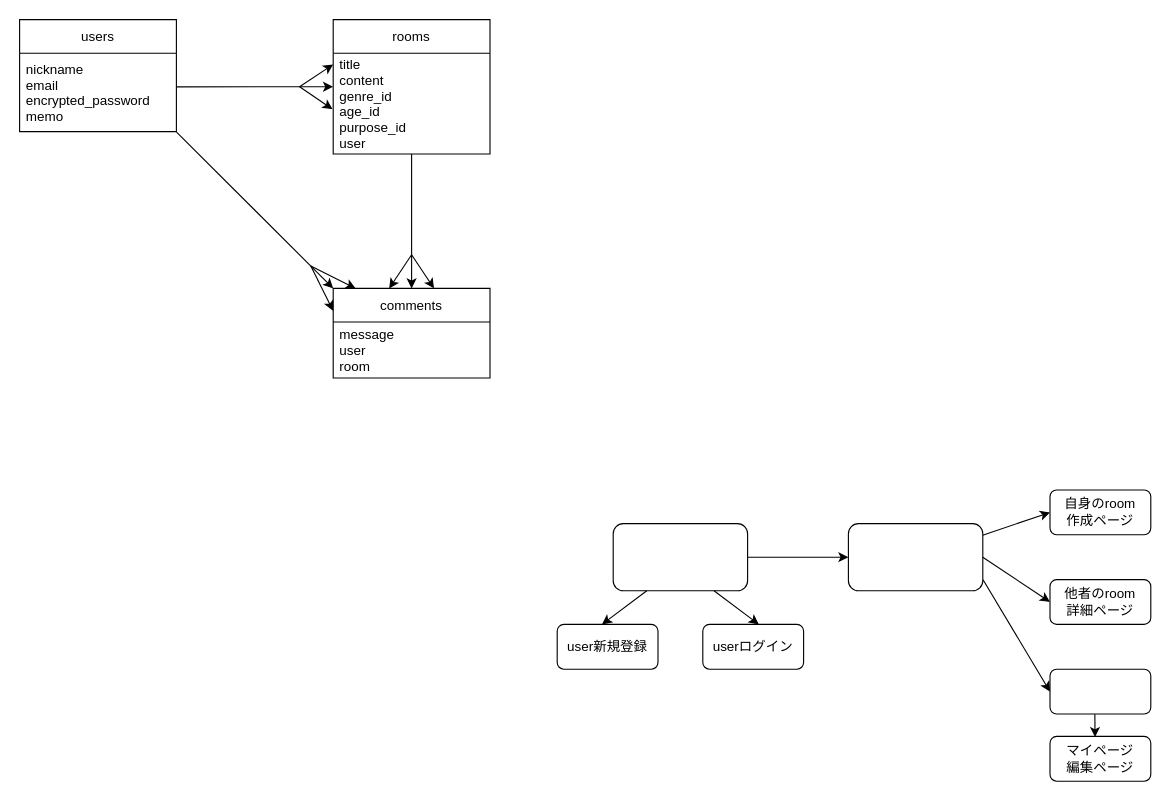
Some shapes in this 1170 by 801 pixel diagram are drawn without their labels. Each missing label, with the centre of its shape:
"room indexページ (room一覧)" goes at pixel 915 556.
"topページ" goes at pixel 680 556.
"マイページ" goes at pixel 1100 691.
